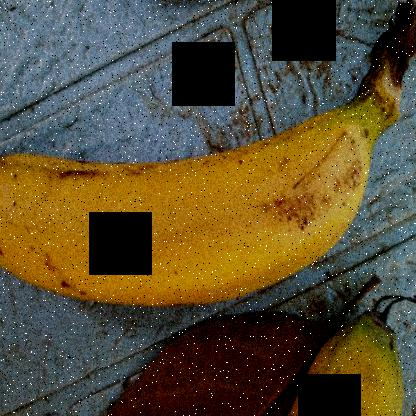ripe: (0, 46, 386, 328)
